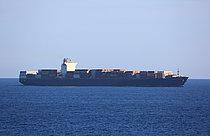Ship: (16, 55, 192, 92)
